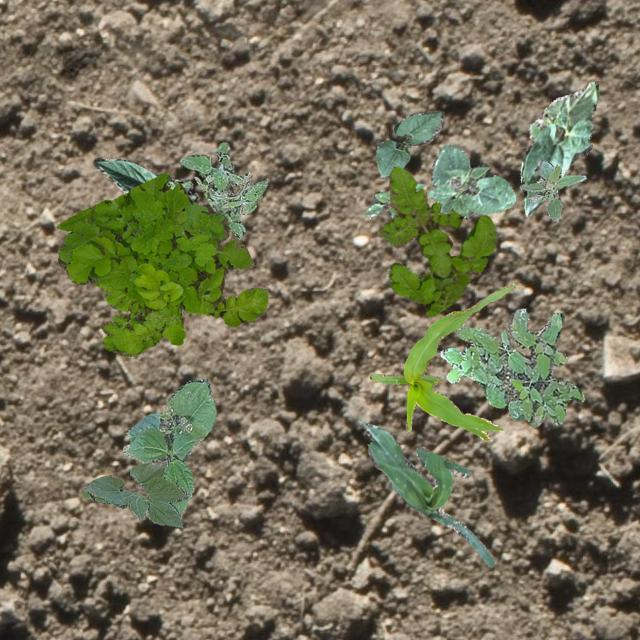crop: (368, 282, 514, 440), (363, 422, 493, 566), (122, 378, 214, 516), (520, 80, 598, 214), (81, 456, 188, 526), (426, 144, 516, 218), (92, 156, 198, 202), (374, 110, 442, 178)
weed: (56, 172, 266, 356), (378, 166, 497, 316), (439, 308, 584, 426), (180, 142, 253, 238), (518, 158, 586, 222), (194, 172, 268, 214), (362, 180, 422, 218)
